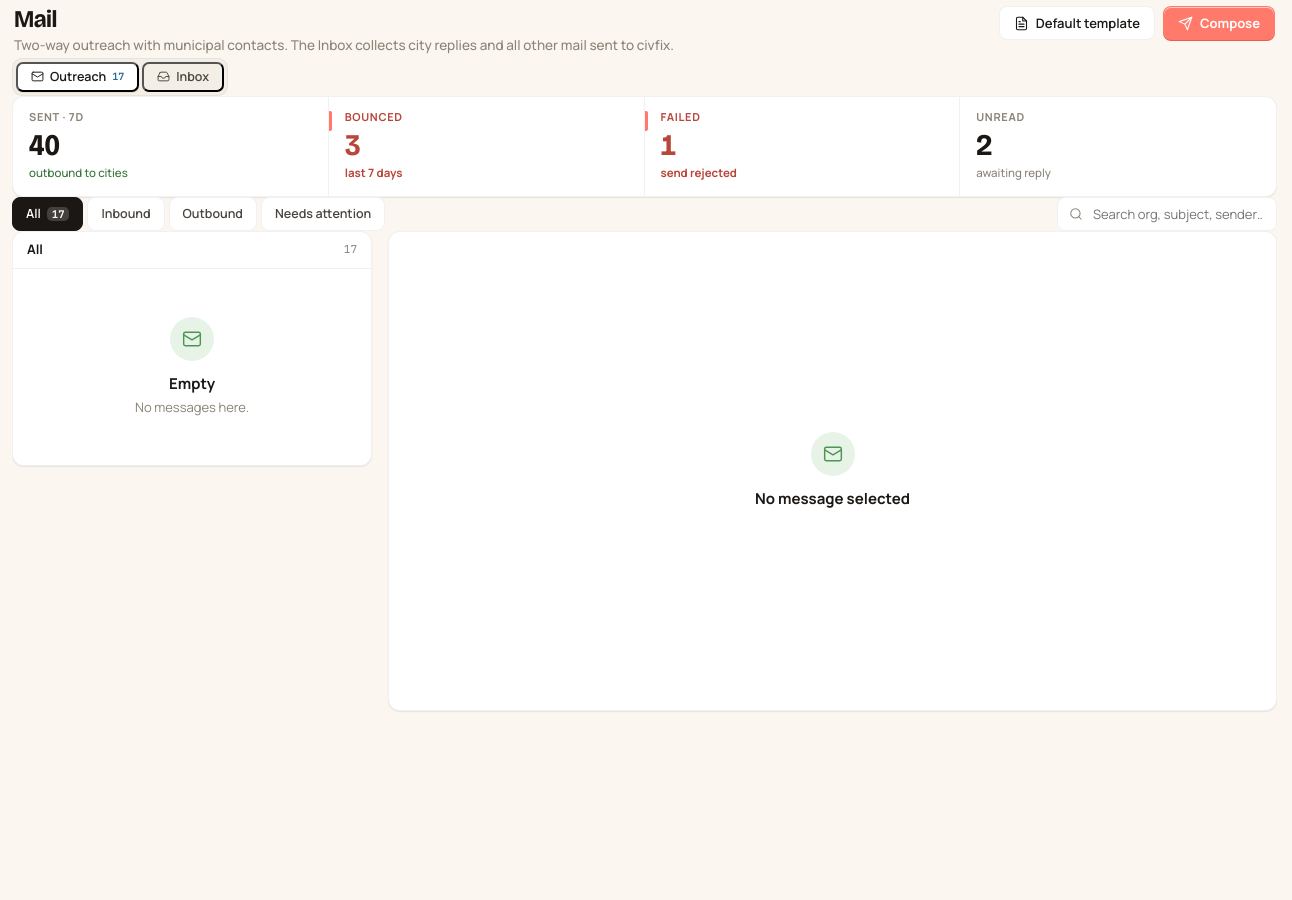
Test: MailPage inbox › shows Load more when a cursor is returned and fetches the next page with it
Click the radio button labelled "Inbox": (183, 77) top-left (142, 62), bottom-right (224, 92)
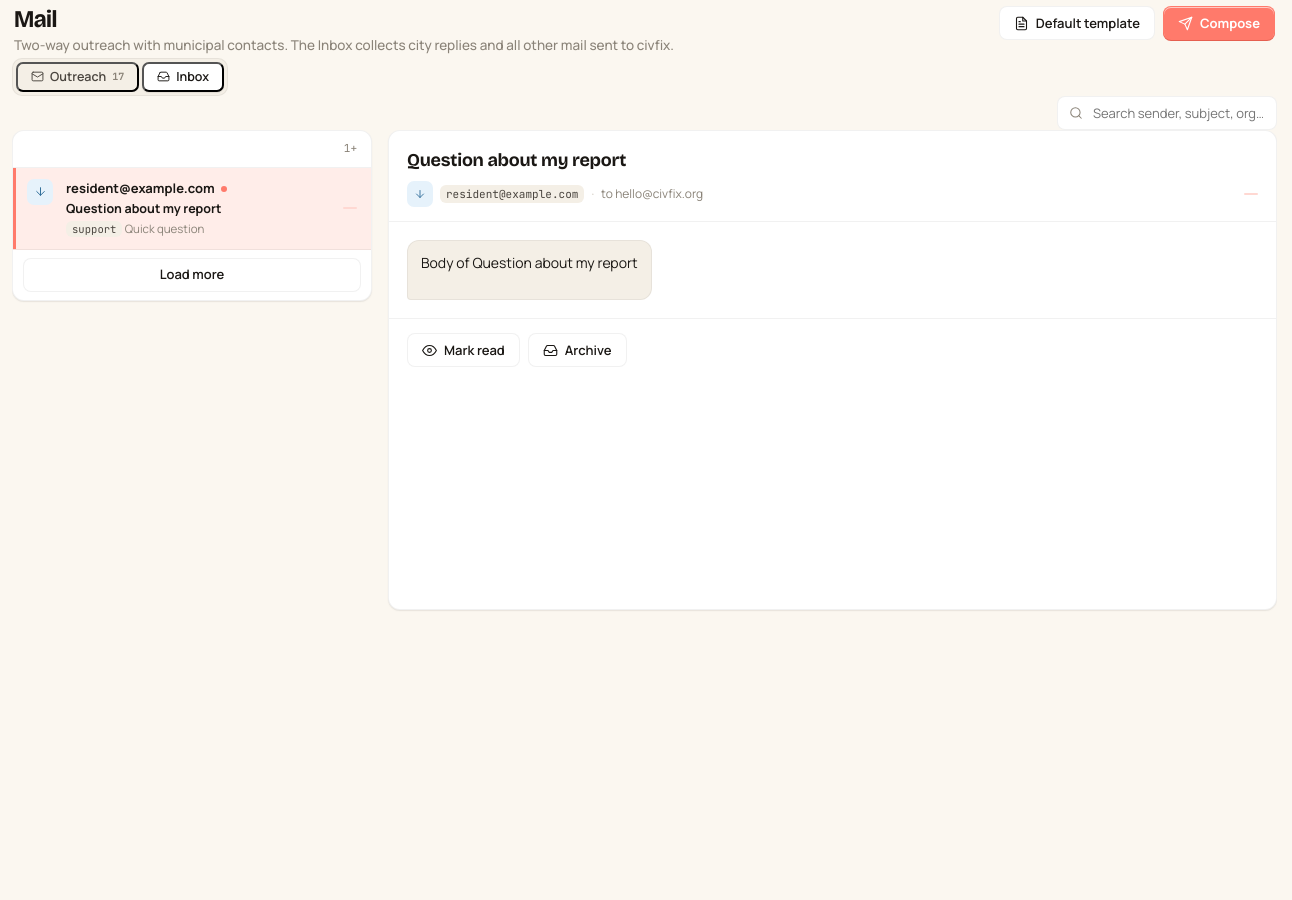
Now the text "Question about my report" below "1+" is shown, box top-left (66, 200), bottom-right (221, 217)
Click the button "Load more": (192, 274) top-left (23, 258), bottom-right (361, 292)
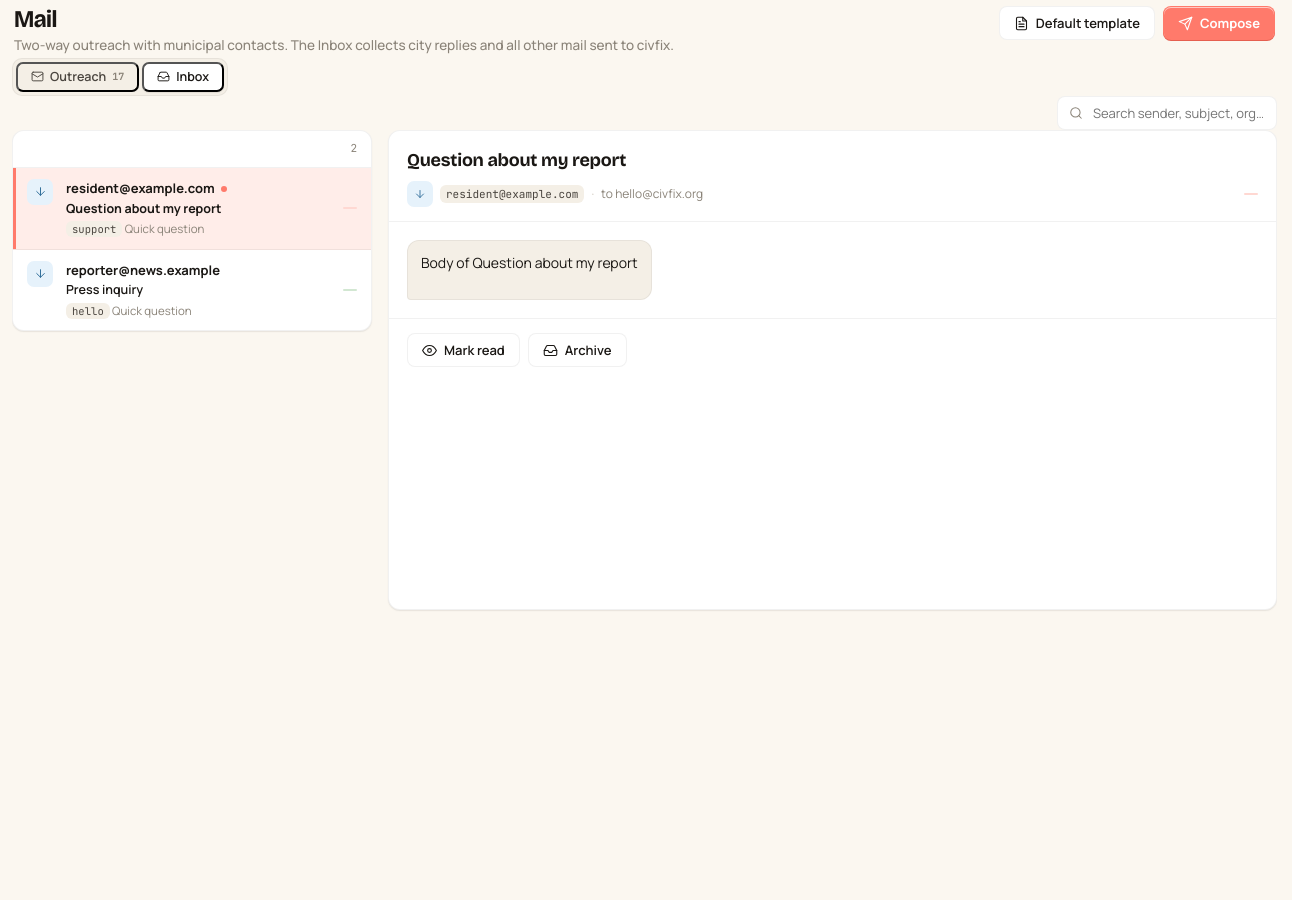
Now the text "Press inquiry" is shown, box top-left (66, 281), bottom-right (143, 298)
Now the button "Load more" is gone
